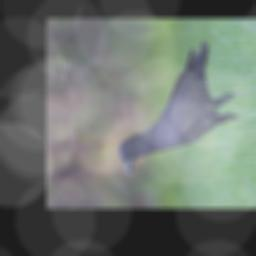Crow: (100, 36, 256, 176)
